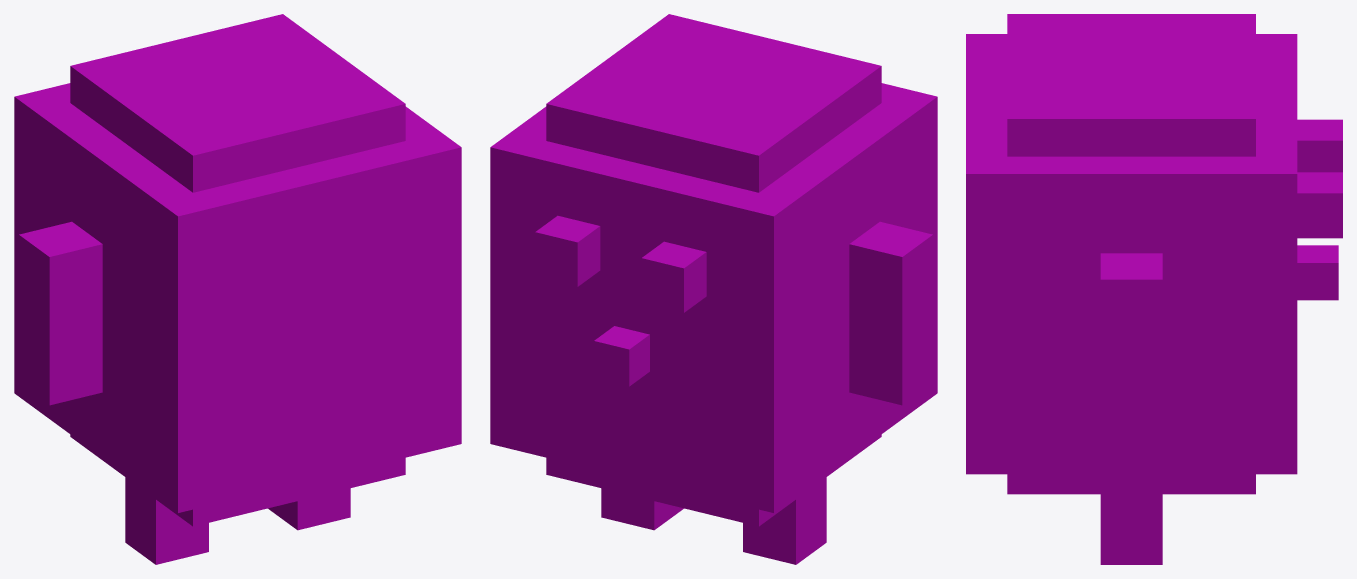
The model's file is bigguy.glb.
3 renders of one model, left to right at view 1: azimuth 30°, elevation 25°; view 2: azimuth 150°, elevation 25°; view 3: azimuth 270°, elevation 25°, orthographic.
Visible parts, largest first — view 1: bigguy, LeftArm; view 2: bigguy, LeftArm; view 3: bigguy, RightArm (×2).
Part boxes in pixels (x1=…): bigguy: x1=14, y1=14, x2=461, y2=564; LeftArm: x1=19, y1=221, x2=102, y2=405; bigguy: x1=490, y1=14, x2=937, y2=564; LeftArm: x1=849, y1=221, x2=932, y2=405; bigguy: x1=966, y1=14, x2=1342, y2=564; RightArm (×2): x1=1100, y1=253, x2=1162, y2=429.
Bounding box in the file's own units: 7.19 × 7.5 × 5.69.
